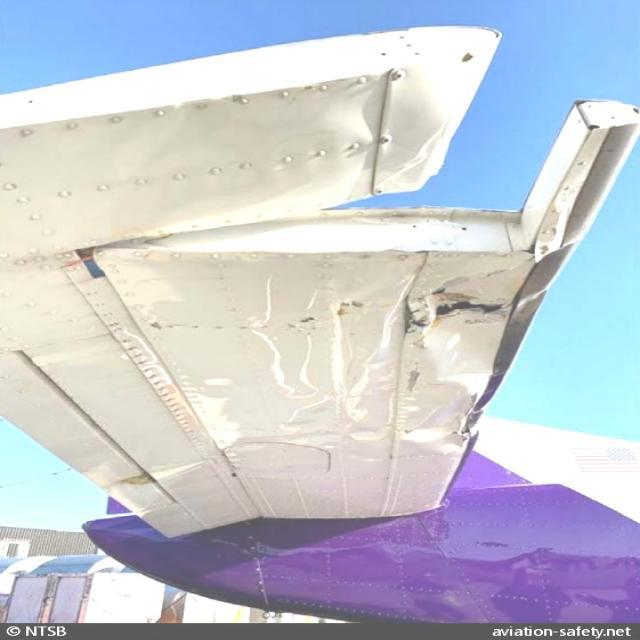dent: (396, 397, 468, 455)
